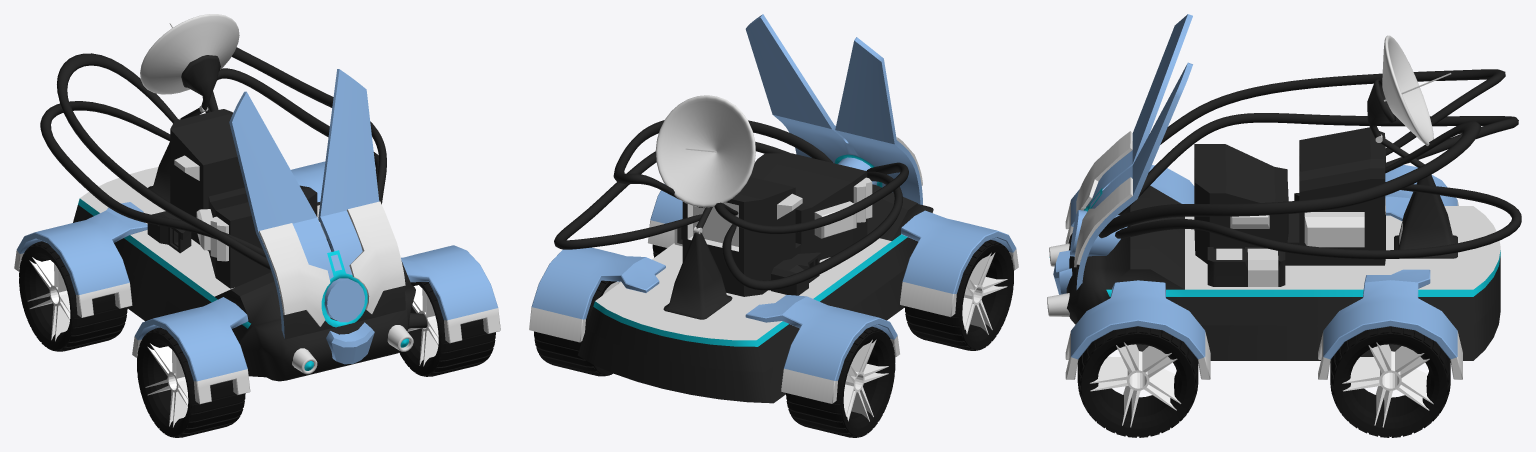
Rendered from Rover_Compact.fbx.
3 views of the same model, side by side, from view 1: azimuth 30°, elevation 25°; view 2: azimuth 150°, elevation 25°; view 3: azimuth 270°, elevation 25° (orthographic). The views are drawn at different scales.
Parts seen in each view (by area): view 1: Head_Plate, Cube.006, Large_Box, Support_Back_Right, Support_Front_Right, Support_Front_Left, Wheel_Back_Right, Wheel_Front_Right, ROVER.001, Cable_03, Plate_Left, Plate_Right (+14 smaller); view 2: Cube.006, Large_Box, Head_Plate, ROVER.001, Support_Back_Right, Support_Back_Left, Support_Front_Right, Wheel_Back_Right, Wheel_Front_Right, Cube, Cable_02, Cable_04 (+7 smaller); view 3: Cube.006, Large_Box, Wheel_Back_Left, Wheel_Front_Left, Support_Back_Left, Support_Front_Left, Cable_01, Head_Plate, Cable_02, Cable_03, Cable_04, Rims_Front_Left (+12 smaller).
Boxes of the visible parts, bbox=[...] form: Head_Plate: bbox=[229, 69, 405, 339]; Cube.006: bbox=[73, 167, 415, 381]; Large_Box: bbox=[170, 109, 317, 288]; Support_Back_Right: bbox=[14, 202, 147, 317]; Support_Front_Right: bbox=[132, 297, 250, 404]; Support_Front_Left: bbox=[401, 245, 500, 343]; Wheel_Back_Right: bbox=[19, 241, 127, 351]; Wheel_Front_Right: bbox=[137, 327, 245, 437]; ROVER.001: bbox=[140, 14, 239, 94]; Cable_03: bbox=[57, 53, 270, 269]; Plate_Left: bbox=[258, 223, 330, 326]; Plate_Right: bbox=[347, 201, 405, 313]; Cube.006: bbox=[577, 184, 933, 403]; Large_Box: bbox=[674, 153, 872, 296]; Head_Plate: bbox=[745, 14, 922, 204]; ROVER.001: bbox=[655, 95, 755, 207]; Support_Back_Right: bbox=[745, 295, 899, 403]; Support_Back_Left: bbox=[529, 247, 665, 342]; Support_Front_Right: bbox=[900, 210, 1018, 317]; Wheel_Back_Right: bbox=[786, 326, 895, 437]; Wheel_Front_Right: bbox=[904, 240, 1013, 350]; Cube: bbox=[663, 232, 732, 319]; Cable_02: bbox=[554, 142, 790, 249]; Cable_04: bbox=[722, 171, 902, 290]; Cube.006: bbox=[1066, 185, 1500, 360]; Large_Box: bbox=[1194, 127, 1385, 265]; Wheel_Back_Left: bbox=[1330, 326, 1450, 437]; Wheel_Front_Left: bbox=[1077, 326, 1198, 437]; Support_Back_Left: bbox=[1318, 269, 1462, 379]; Support_Front_Left: bbox=[1065, 280, 1210, 379]; Cable_01: bbox=[1098, 121, 1480, 238]; Head_Plate: bbox=[1076, 14, 1192, 289]; Cable_02: bbox=[1115, 184, 1521, 259]; Cable_03: bbox=[1160, 69, 1505, 155]; Cable_04: bbox=[1118, 113, 1518, 214]; Rims_Front_Left: bbox=[1090, 342, 1181, 427].
Bounding box in the file's own units: 203 × 191 × 255.
